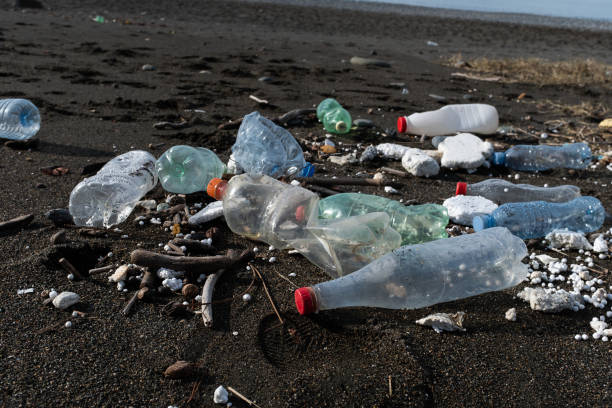plastic: (295, 226, 523, 323), (207, 172, 312, 248), (72, 143, 154, 229), (162, 146, 227, 187), (397, 108, 498, 132)
